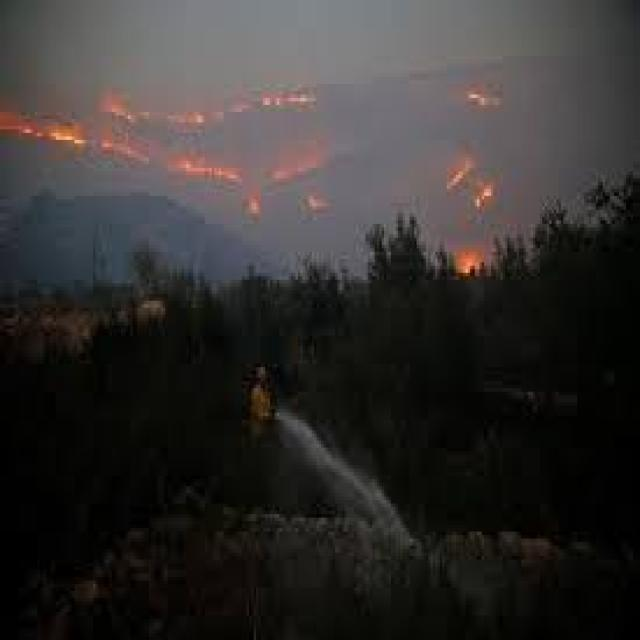Fire: (0, 104, 243, 180), (442, 76, 520, 284), (106, 74, 320, 128), (270, 138, 338, 218), (244, 194, 266, 226)
